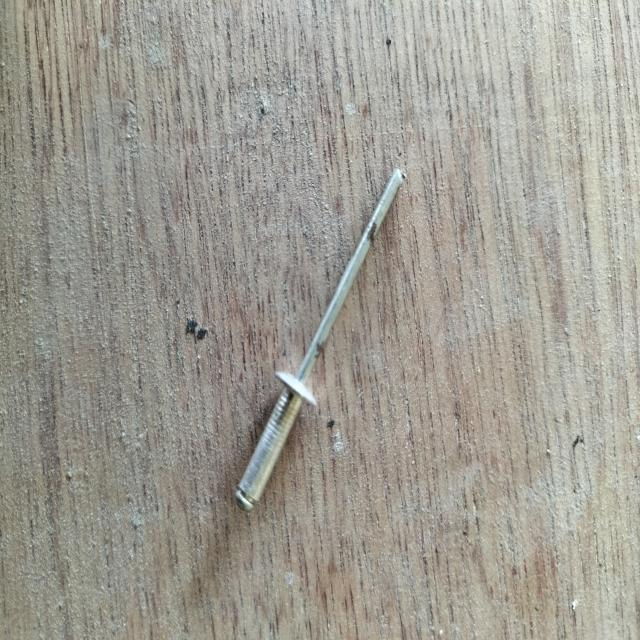rivet: (234, 169, 403, 512)
